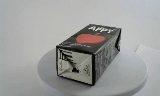appy: (50, 23, 114, 87)
